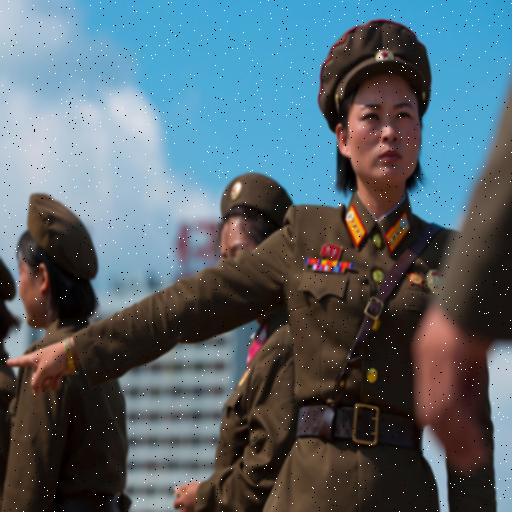north army: (125, 16, 480, 499)
